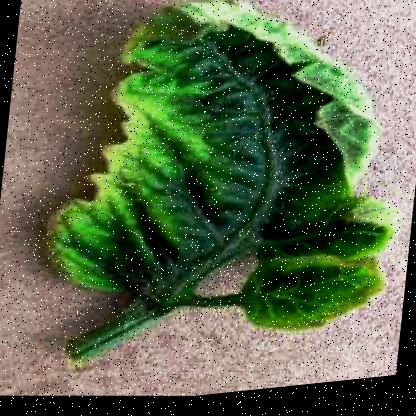Virus: (24, 0, 415, 406)
